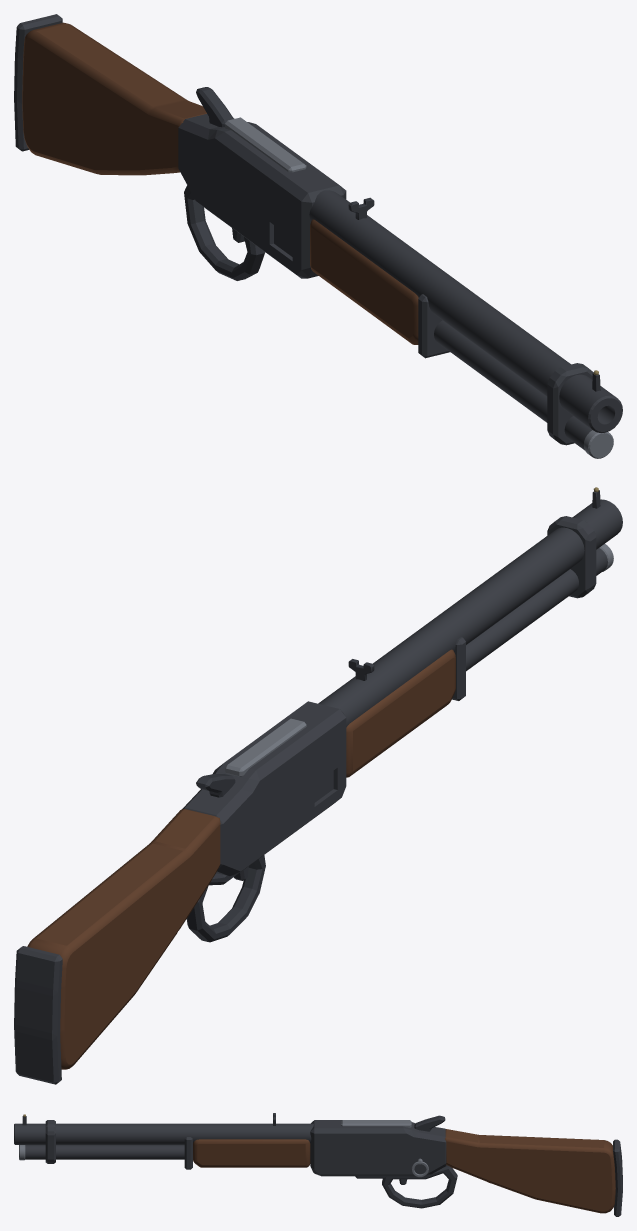
Rendered from w_lever@lever_classic.glb.
The picture shows the model from 3 angles, top to bottom: view 1: azimuth 30°, elevation 25°; view 2: azimuth 150°, elevation 25°; view 3: azimuth 270°, elevation 25°; orthographic projection. The views are drawn at different scales.
Visible parts, largest first — view 1: stock_wzA__wood__p5c3c29, barrel_wzB__blue__p3a3d44, body_wzA__blue__p3a3d44, fore_wzA__wood__p5c3c29, lever_wzN__dark__p35383f, stock_wzB__blue__p3a3d44, body_wzN__steel__p6e737c, fore_wzB__blue__p3a3d44, lhammer_wzN__dark__p35383f, barrel_wzN__steel__p6e737c; view 2: stock_wzA__wood__p5c3c29, barrel_wzB__blue__p3a3d44, body_wzA__blue__p3a3d44, stock_wzB__blue__p3a3d44, fore_wzA__wood__p5c3c29, lever_wzN__dark__p35383f, body_wzN__steel__p6e737c; view 3: stock_wzA__wood__p5c3c29, barrel_wzB__blue__p3a3d44, body_wzA__blue__p3a3d44, fore_wzA__wood__p5c3c29, lever_wzN__dark__p35383f, body_wzN__steel__p6e737c, stock_wzB__blue__p3a3d44, lhammer_wzN__dark__p35383f, fore_wzB__blue__p3a3d44.
Part boxes in pixels (<box>): stock_wzA__wood__p5c3c29: <box>22,22,206,175</box>; barrel_wzB__blue__p3a3d44: <box>309,190,622,450</box>; body_wzA__blue__p3a3d44: <box>178,114,346,278</box>; fore_wzA__wood__p5c3c29: <box>310,219,418,344</box>; lever_wzN__dark__p35383f: <box>184,185,265,280</box>; stock_wzB__blue__p3a3d44: <box>14,14,62,151</box>; body_wzN__steel__p6e737c: <box>225,117,306,172</box>; fore_wzB__blue__p3a3d44: <box>418,294,449,358</box>; lhammer_wzN__dark__p35383f: <box>196,87,233,127</box>; barrel_wzN__steel__p6e737c: <box>583,430,613,458</box>; stock_wzA__wood__p5c3c29: <box>27,809,220,1069</box>; barrel_wzB__blue__p3a3d44: <box>318,499,622,727</box>; body_wzA__blue__p3a3d44: <box>182,701,346,876</box>; stock_wzB__blue__p3a3d44: <box>14,946,62,1084</box>; fore_wzA__wood__p5c3c29: <box>346,649,455,777</box>; lever_wzN__dark__p35383f: <box>186,855,265,942</box>; body_wzN__steel__p6e737c: <box>225,718,306,776</box>; stock_wzA__wood__p5c3c29: <box>445,1129,615,1213</box>; barrel_wzB__blue__p3a3d44: <box>14,1120,313,1163</box>; body_wzA__blue__p3a3d44: <box>310,1120,446,1176</box>; fore_wzA__wood__p5c3c29: <box>193,1139,310,1167</box>; lever_wzN__dark__p35383f: <box>355,1165,457,1208</box>; body_wzN__steel__p6e737c: <box>341,1120,428,1177</box>; stock_wzB__blue__p3a3d44: <box>613,1139,622,1216</box>; lhammer_wzN__dark__p35383f: <box>414,1115,445,1131</box>; fore_wzB__blue__p3a3d44: <box>184,1137,192,1169</box>.
Bounding box in the file's own units: 0.0625 × 0.2112 × 1.19.
